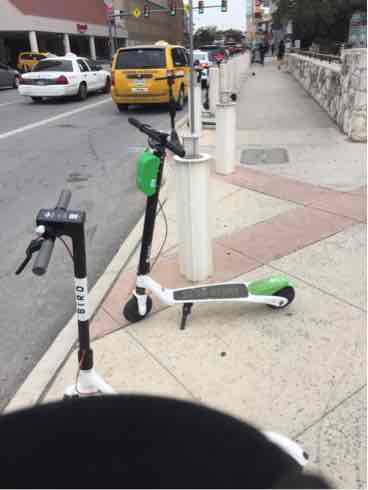scooter: (110, 120, 308, 324)
